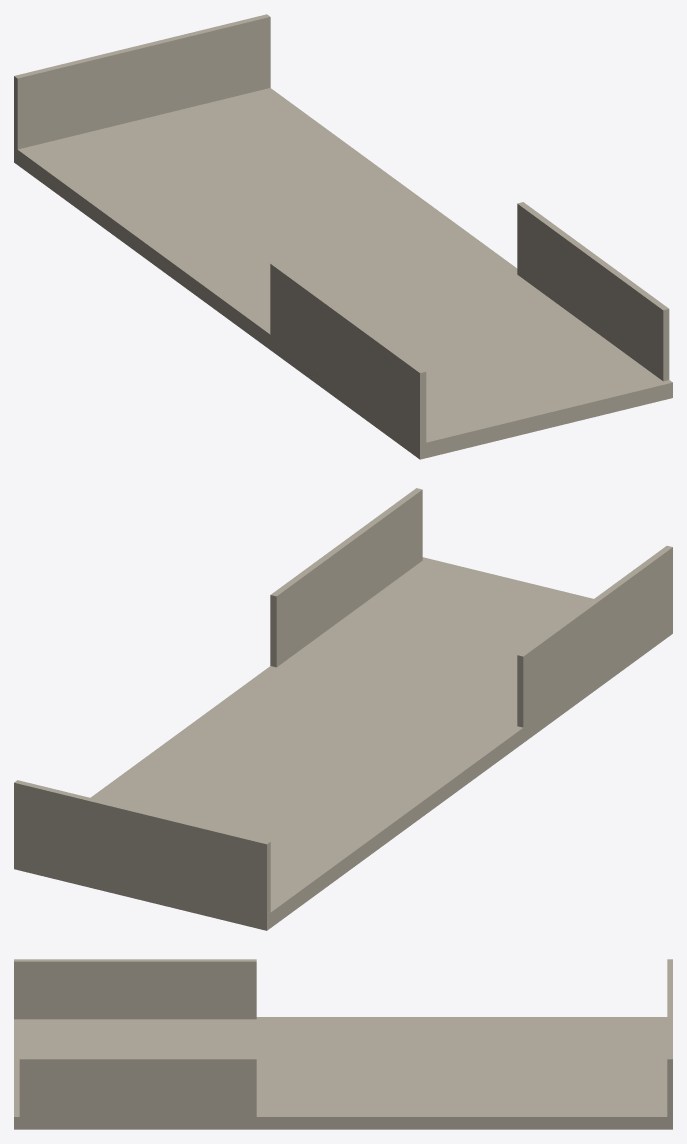
Rendered from TidalD14StreetDoubleReceiver.glb.
3 views of the same model, one above another, from view 1: azimuth 30°, elevation 25°; view 2: azimuth 150°, elevation 25°; view 3: azimuth 270°, elevation 25° (orthographic). The views are drawn at different scales.
Parts seen in each view (by area): view 1: D14_SouthStreetFloor, D14_SouthStreetEndGuard, D14_WestStreetGapGuard, D14_EastStreetGapGuard; view 2: D14_SouthStreetFloor, D14_SouthStreetEndGuard, D14_WestStreetGapGuard, D14_EastStreetGapGuard; view 3: D14_SouthStreetFloor, D14_WestStreetGapGuard, D14_EastStreetGapGuard, D14_SouthStreetEndGuard.
Boxes of the visible parts, bbox=[...] form: D14_SouthStreetFloor: bbox=[14, 88, 672, 459]; D14_SouthStreetEndGuard: bbox=[14, 14, 270, 149]; D14_WestStreetGapGuard: bbox=[270, 262, 426, 443]; D14_EastStreetGapGuard: bbox=[517, 202, 669, 381]; D14_SouthStreetFloor: bbox=[14, 557, 672, 930]; D14_SouthStreetEndGuard: bbox=[14, 780, 270, 915]; D14_WestStreetGapGuard: bbox=[517, 546, 672, 727]; D14_EastStreetGapGuard: bbox=[270, 488, 422, 667]; D14_SouthStreetFloor: bbox=[14, 1017, 672, 1129]; D14_WestStreetGapGuard: bbox=[14, 959, 256, 1019]; D14_EastStreetGapGuard: bbox=[19, 1057, 256, 1116]; D14_SouthStreetEndGuard: bbox=[667, 959, 672, 1116].
Bounding box in the file's own units: 4.1 × 1.34 × 11.4.
